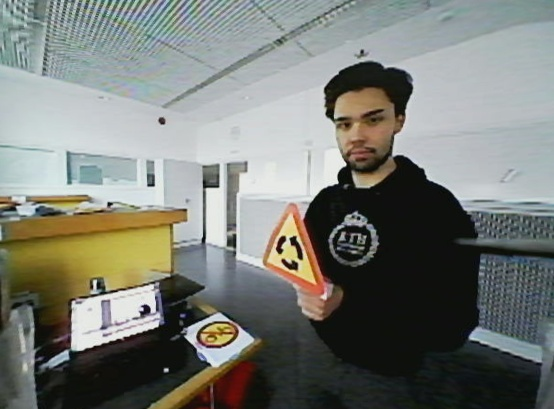roundabout_warning: (260, 196, 330, 298)
